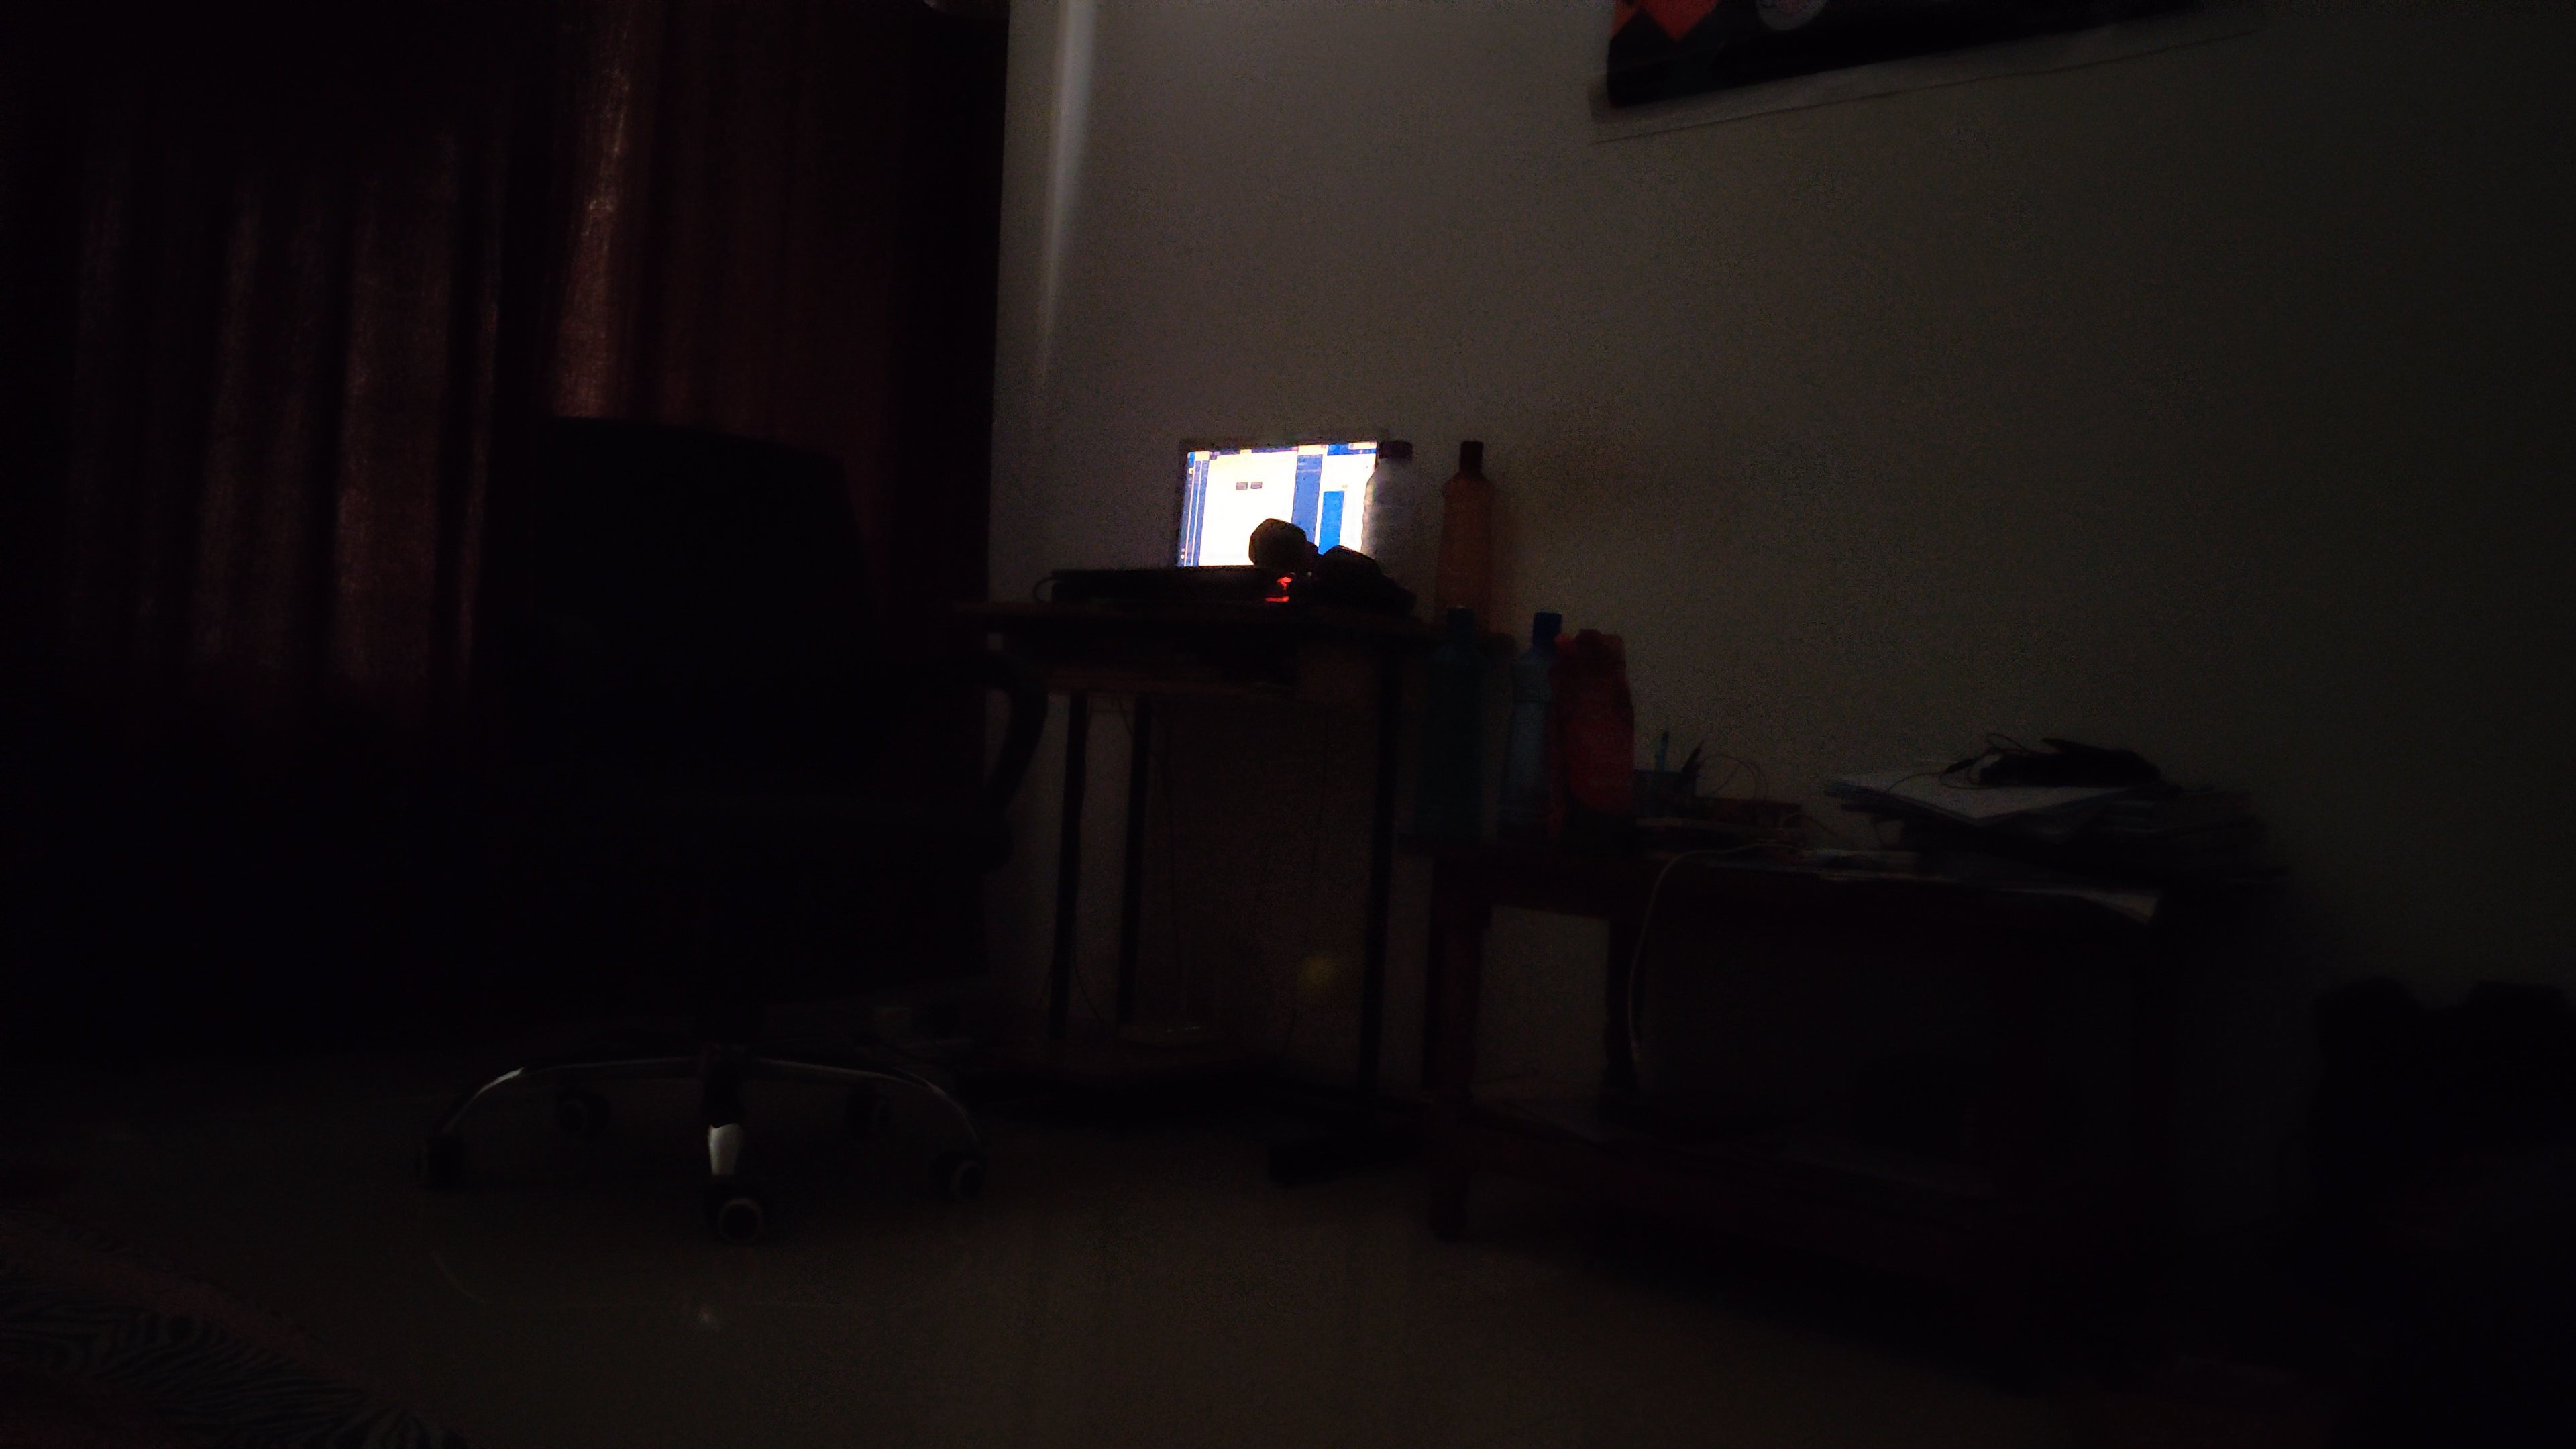Tennis-Ball: (1295, 952, 1348, 1008)
